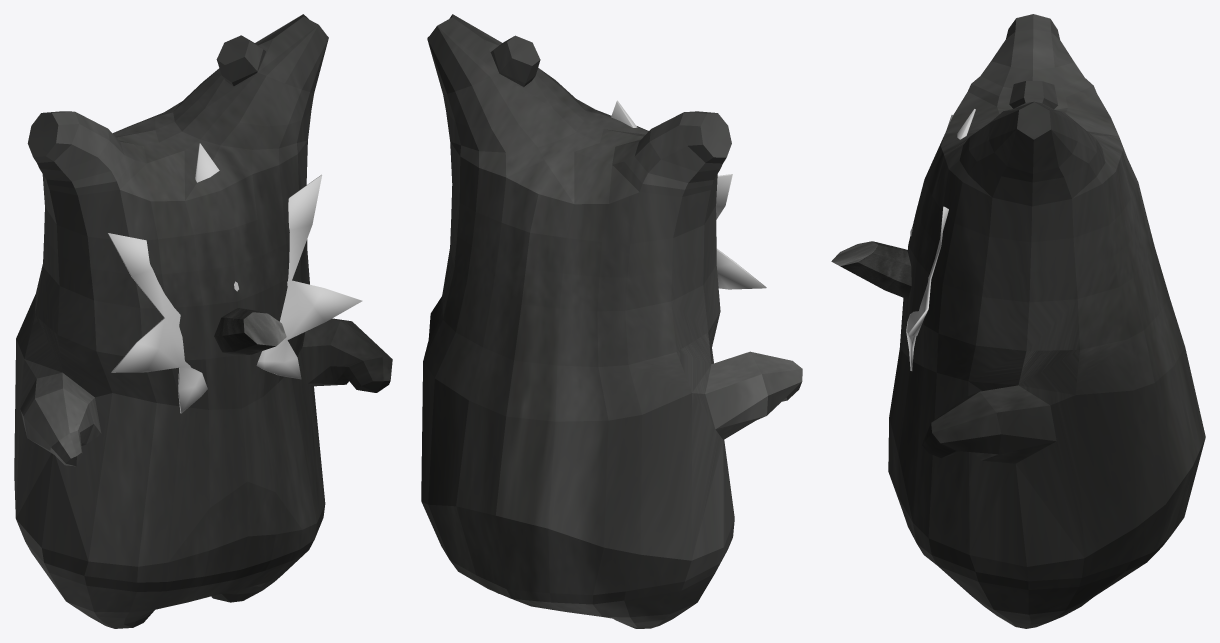
The model's file is frame_0009.obj.
3 views of the same model, side by side, from view 1: azimuth 30°, elevation 25°; view 2: azimuth 150°, elevation 25°; view 3: azimuth 270°, elevation 25° (orthographic).
Visible parts, largest first — view 1: korok, leaf.003_柱体.013, nose.003_柱体.011; view 2: korok, leaf.003_柱体.013; view 3: korok, nose.003_柱体.011, leaf.003_柱体.013.
Boxes of the visible parts, x1,y1,x2,y2 form: korok: (14,14,392,628); leaf.003_柱体.013: (107,143,362,413); nose.003_柱体.011: (214,308,286,355); korok: (421,14,802,628); leaf.003_柱体.013: (611,100,766,289); korok: (888,14,1205,628); nose.003_柱体.011: (831,241,911,299); leaf.003_柱体.013: (906,109,975,370).
Bounding box in the file's own units: 1.43 × 2.25 × 1.37.
